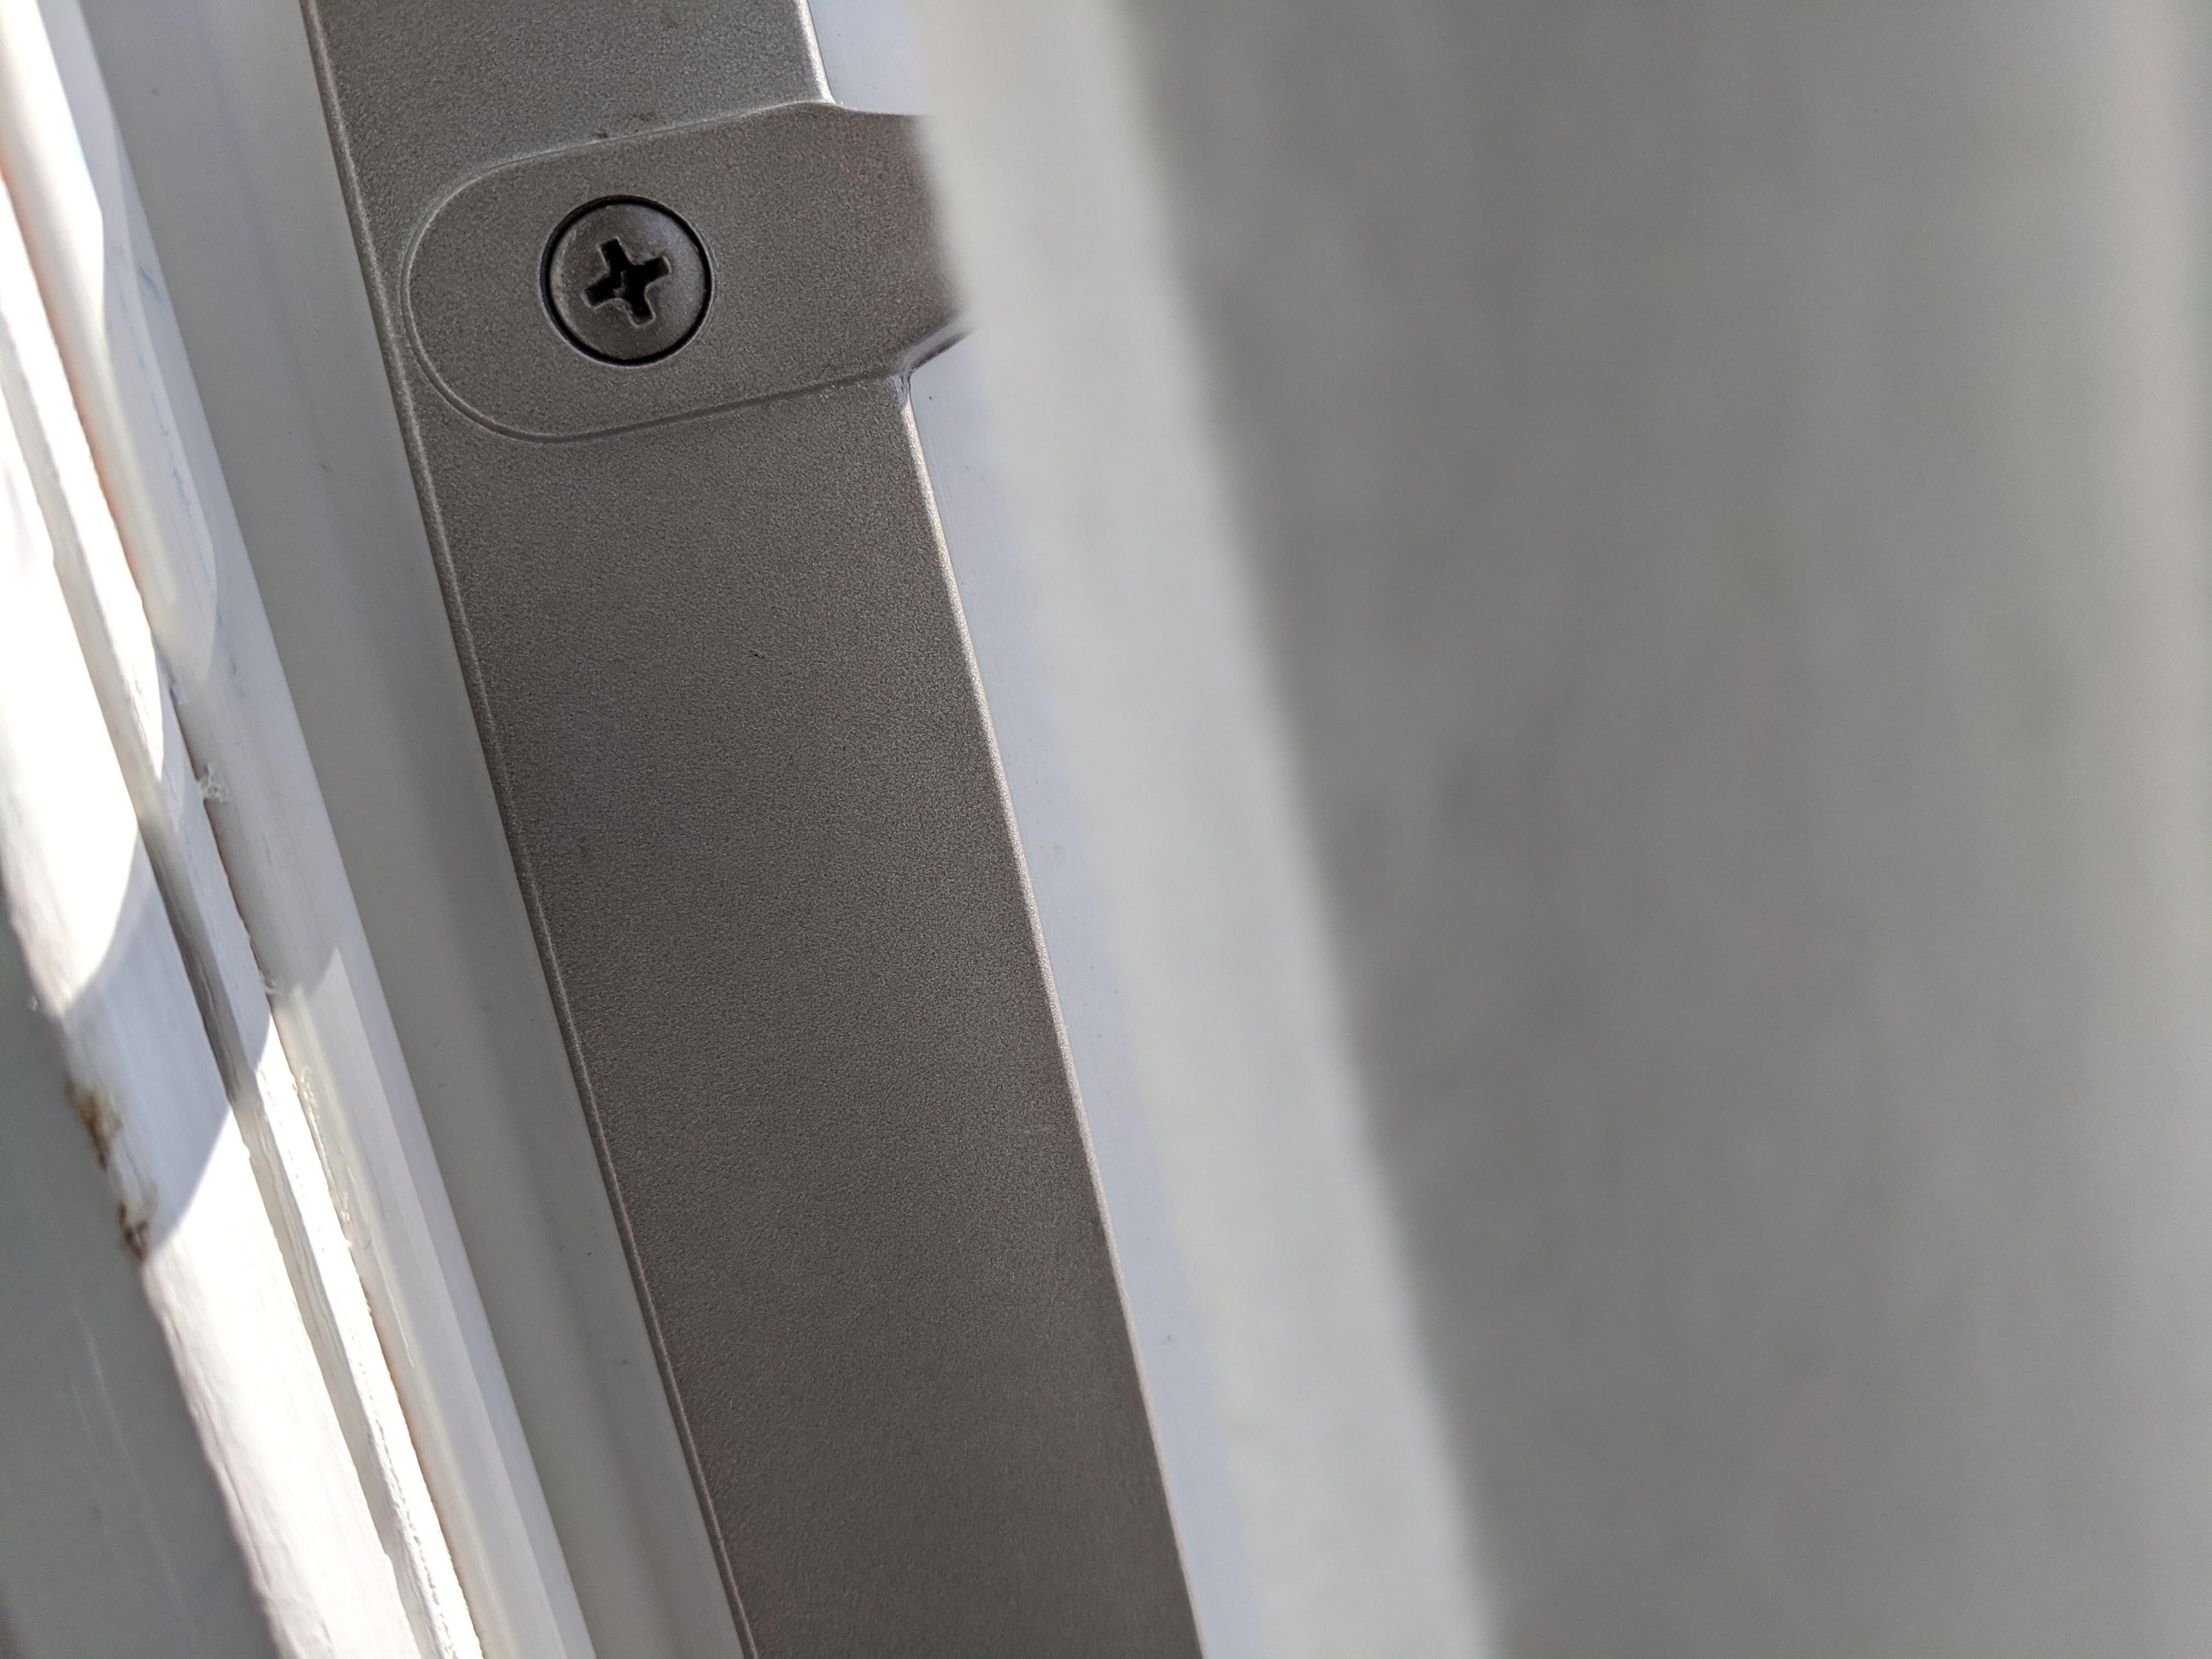cross_recessed_screw: (529, 183, 725, 366)
